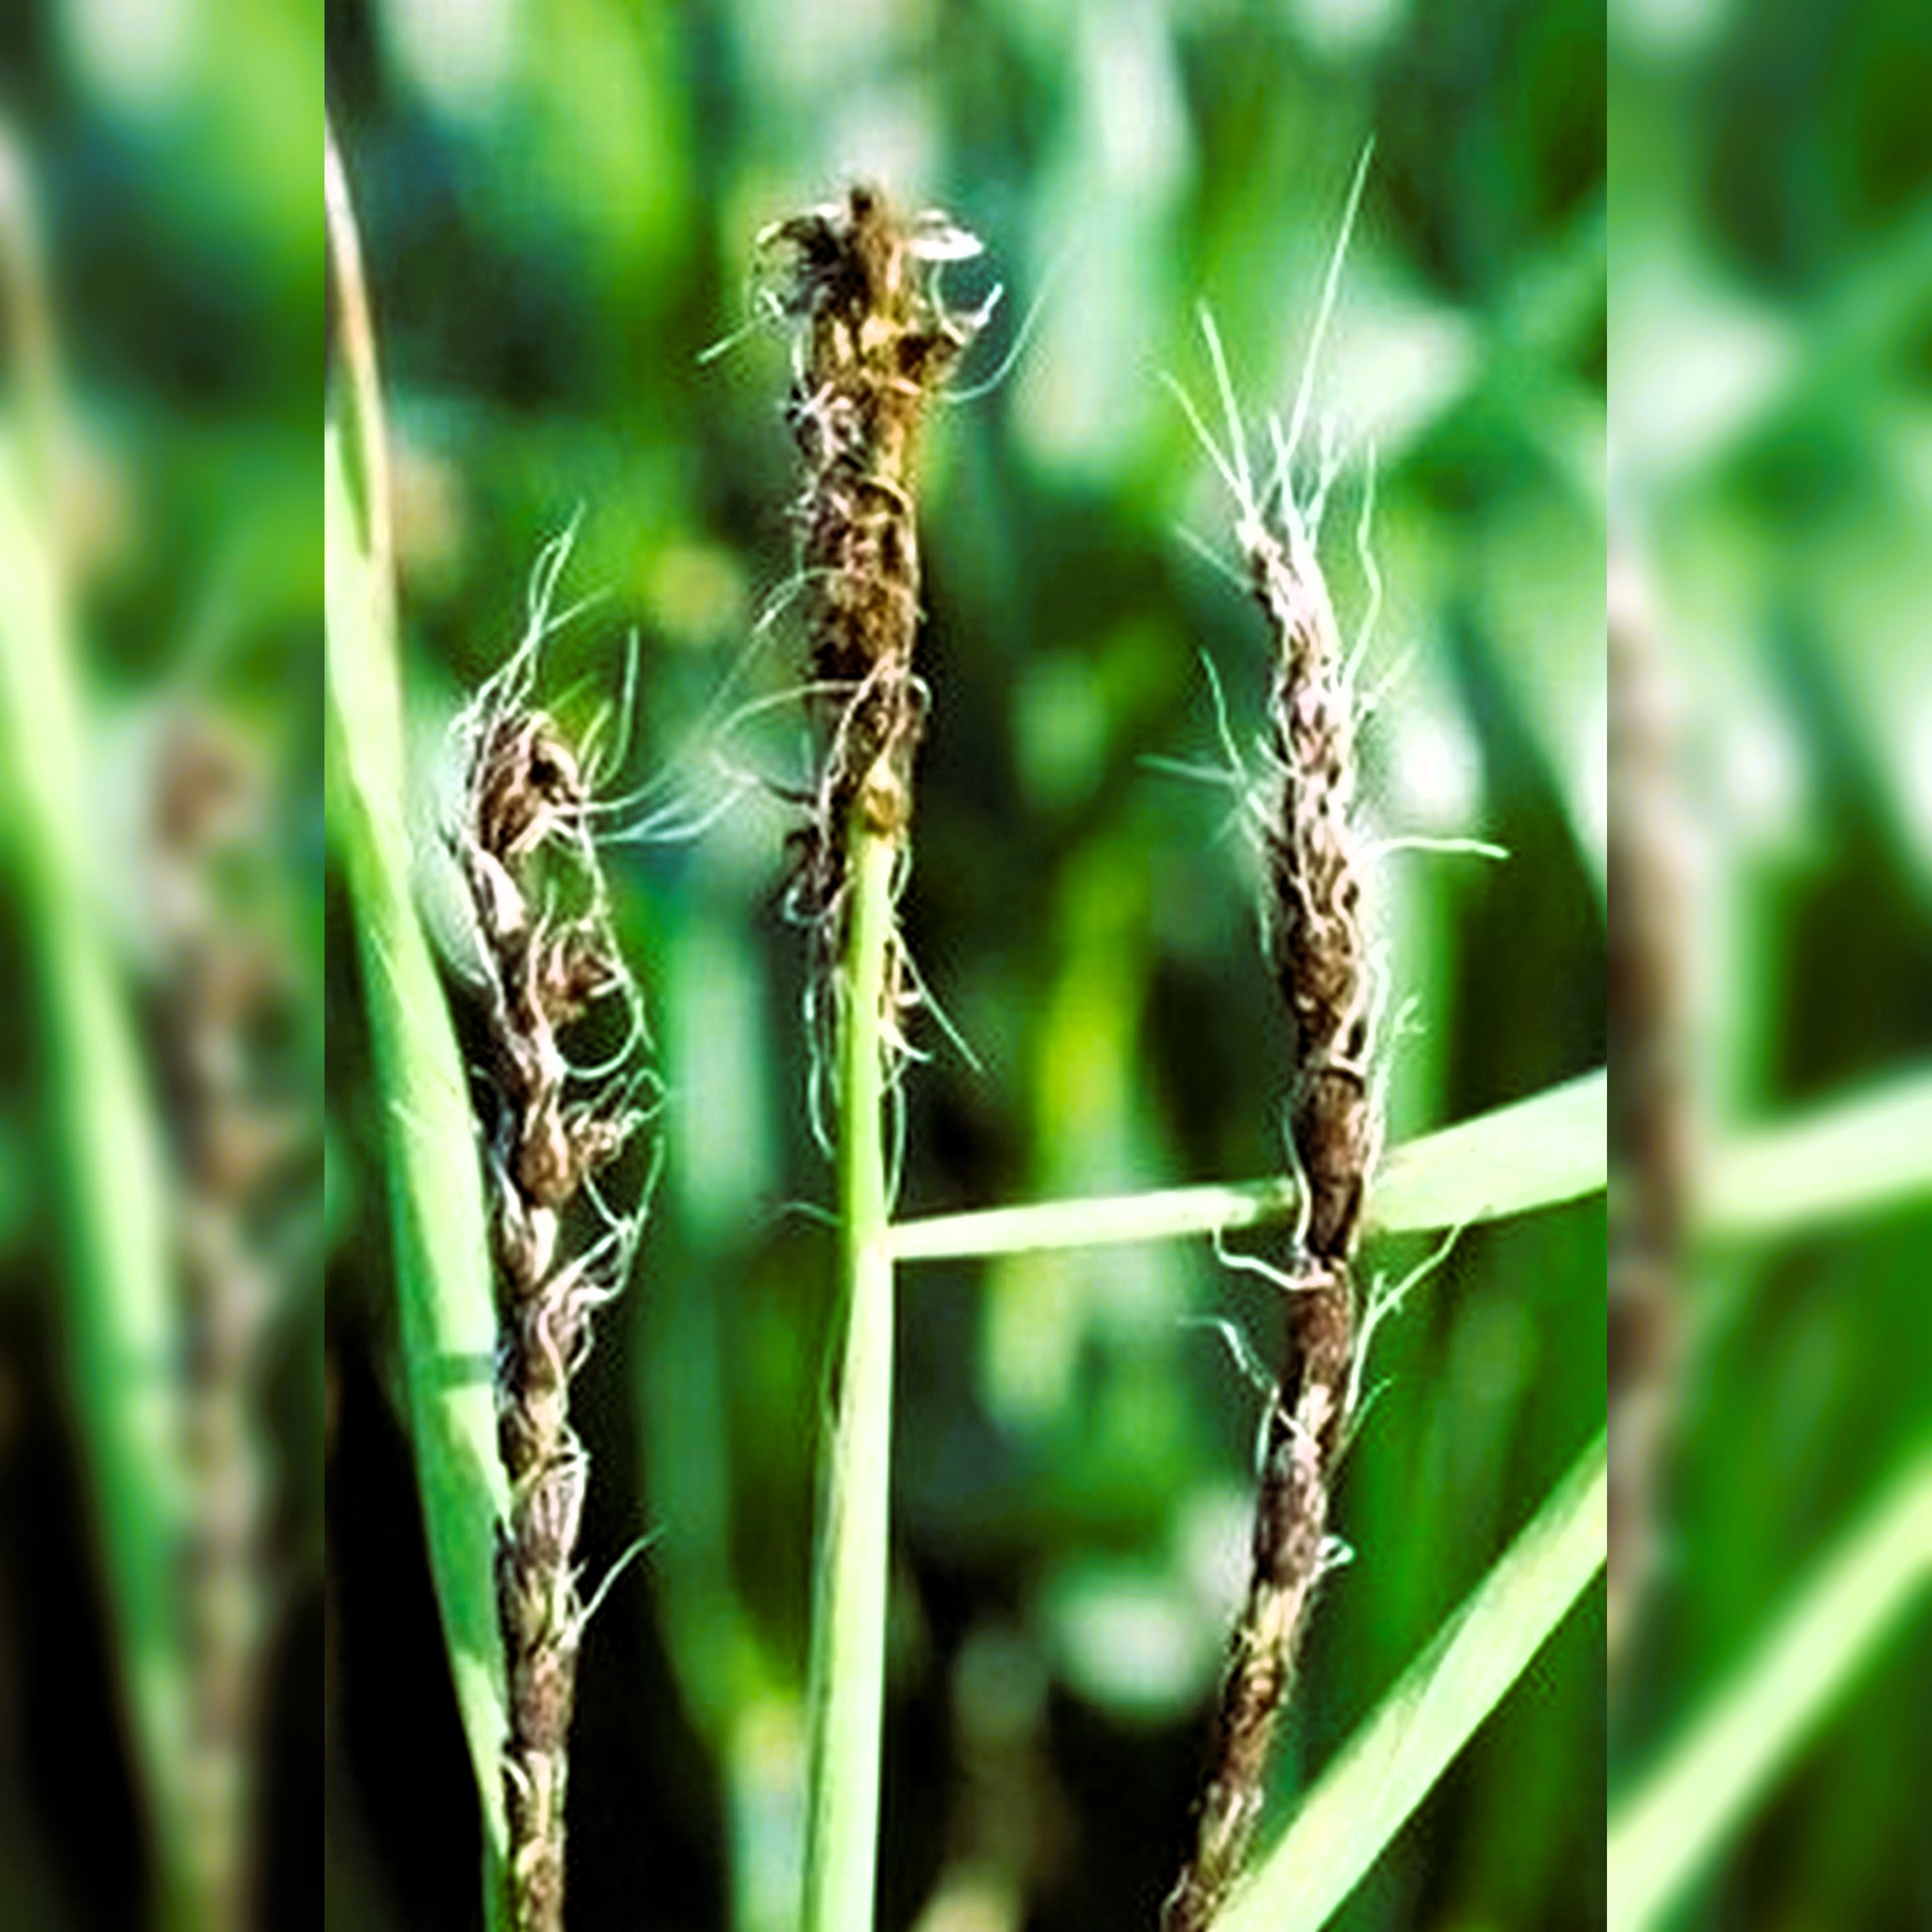Wheat Loose Smut: (1146, 439, 1445, 1276)
